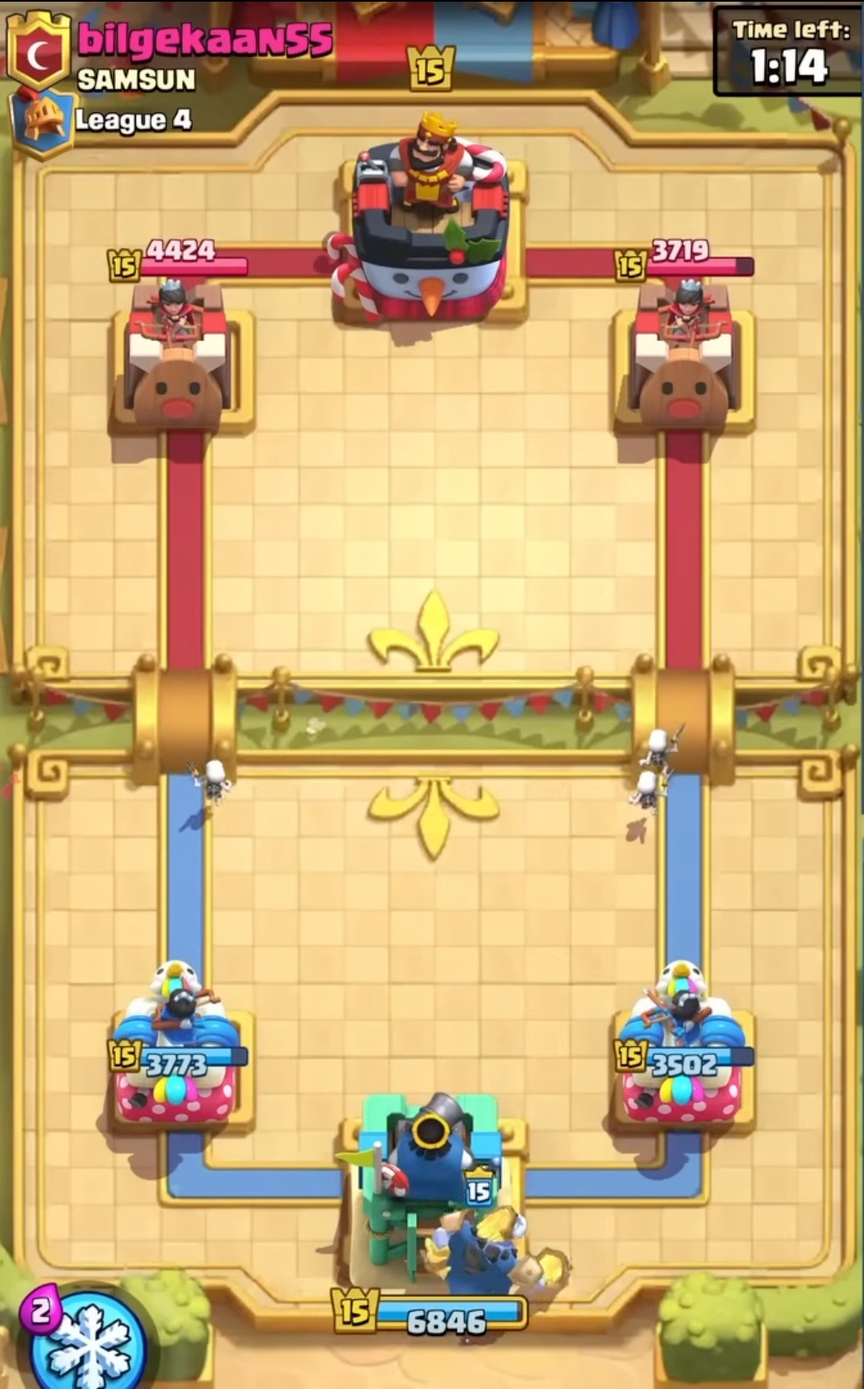hero_ice_golem: (417, 1164, 574, 1331)
skeletons: (627, 718, 689, 783), (619, 765, 677, 824), (186, 753, 240, 813)
